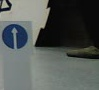forward: (2, 24, 28, 51)
